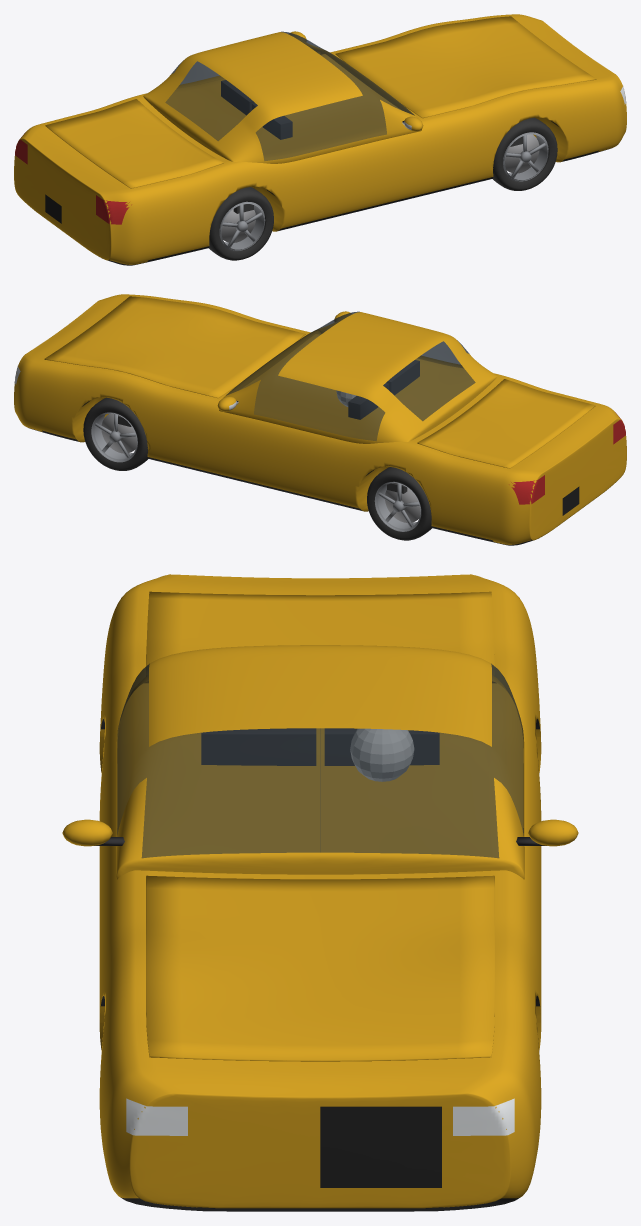
Rendered from derby_pelham_marauder.glb.
3 views of the same model, one above another, from view 1: azimuth 30°, elevation 25°; view 2: azimuth 150°, elevation 25°; view 3: azimuth 270°, elevation 25° (orthographic). The views are drawn at different scales.
Parts seen in each view (by area): view 1: body, cabin, bonnet, bumper_rear, boot, wheel_rr_spin, wheel_fr_spin, bumper_front, interior; view 2: body, cabin, bonnet, bumper_rear, boot, wheel_rl_spin, wheel_fl_spin, bumper_front, interior; view 3: cabin, body, bumper_front, bonnet, boot, interior, bumper_rear, mirror_l, mirror_r.
Part boxes in pixels (left/top/right/bottom): body: left=39, top=15, right=605, bottom=264; cabin: left=143, top=31, right=421, bottom=163; bonnet: left=335, top=16, right=596, bottom=118; bumper_rear: left=14, top=124, right=139, bottom=265; boot: left=45, top=99, right=223, bottom=188; wheel_rr_spin: left=209, top=187, right=273, bottom=260; wheel_fr_spin: left=492, top=117, right=557, bottom=190; bumper_front: left=506, top=14, right=626, bottom=151; interior: left=221, top=80, right=292, bottom=139; body: left=35, top=295, right=601, bottom=544; cabin: left=219, top=311, right=497, bottom=443; bonnet: left=44, top=296, right=305, bottom=398; bumper_rear: left=501, top=404, right=626, bottom=545; boot: left=417, top=379, right=595, bottom=468; wheel_rl_spin: left=367, top=467, right=431, bottom=540; wheel_fl_spin: left=83, top=397, right=148, bottom=470; bumper_front: left=14, top=294, right=134, bottom=431; interior: left=336, top=360, right=419, bottom=419; cabin: left=116, top=645, right=524, bottom=879; body: left=99, top=590, right=541, bottom=1157; bumper_front: left=103, top=1054, right=537, bottom=1211; bonnet: left=146, top=875, right=494, bottom=1061; boot: left=146, top=591, right=494, bottom=675; interior: left=201, top=728, right=439, bottom=781; bumper_rear: left=110, top=574, right=530, bottom=622; mirror_l: left=516, top=819, right=578, bottom=846; mirror_r: left=62, top=819, right=124, bottom=846.
Size of the model in its own units: 5.21 by 1.32 by 2.25.
